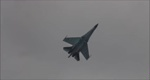maybay_muctieu: (62, 22, 99, 62)
